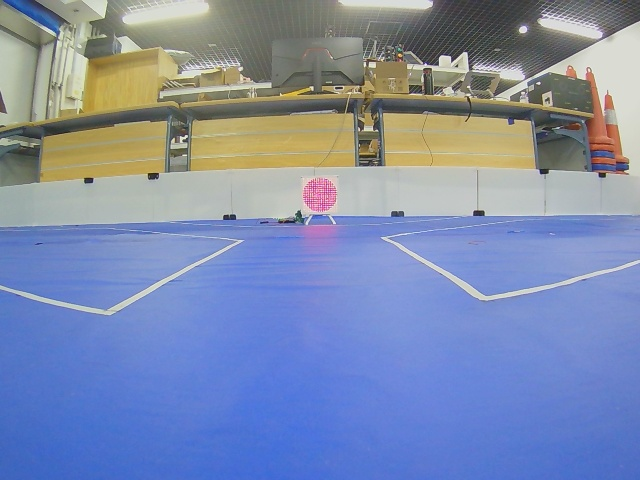red: (303, 177, 337, 213)
